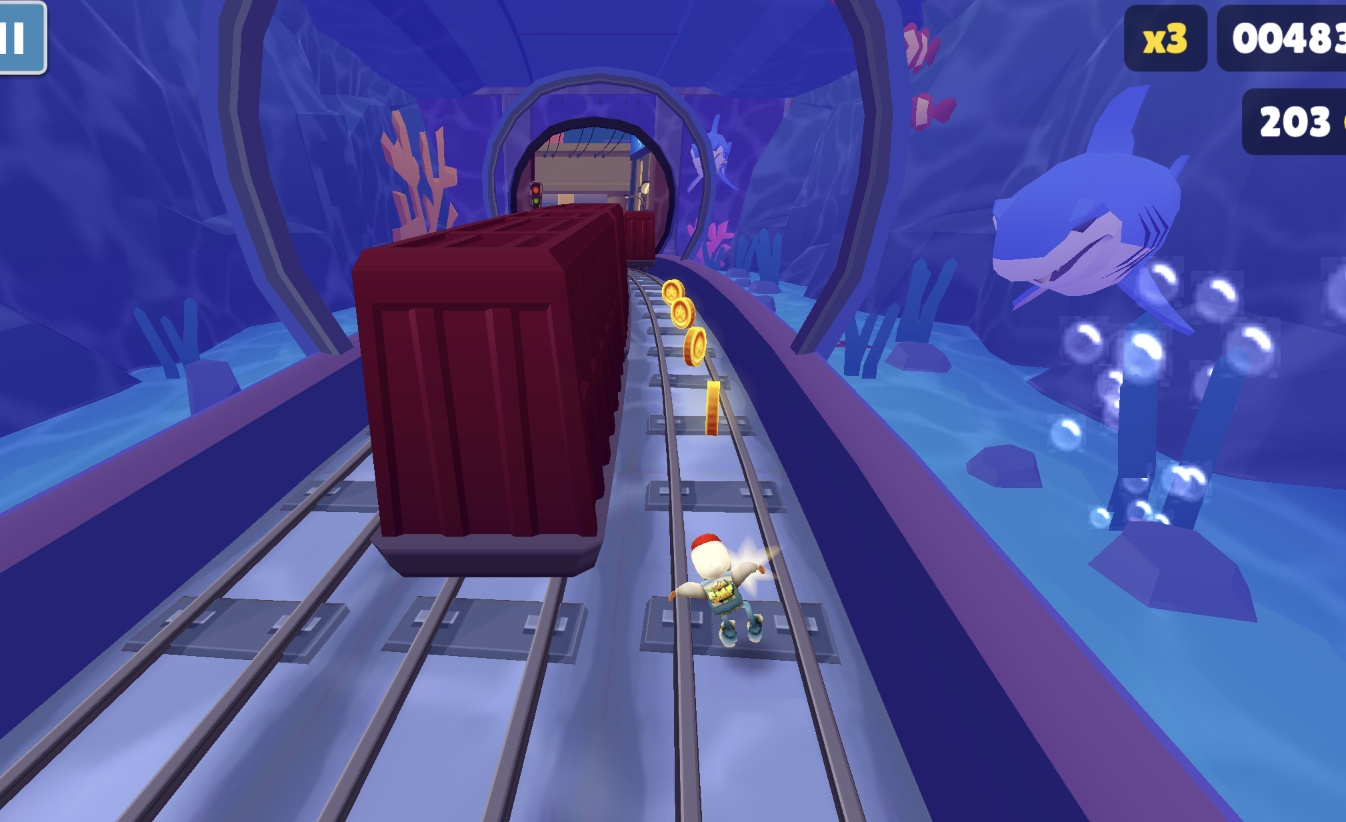train: (350, 204, 633, 579), (620, 210, 657, 271)
